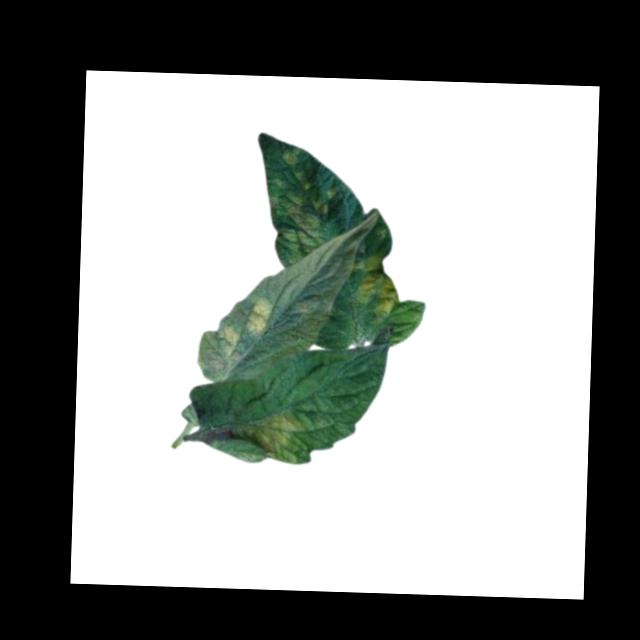Leaf_Mold: (351, 250, 400, 318), (239, 406, 299, 460), (276, 203, 327, 256), (242, 292, 273, 339), (213, 321, 239, 356)
